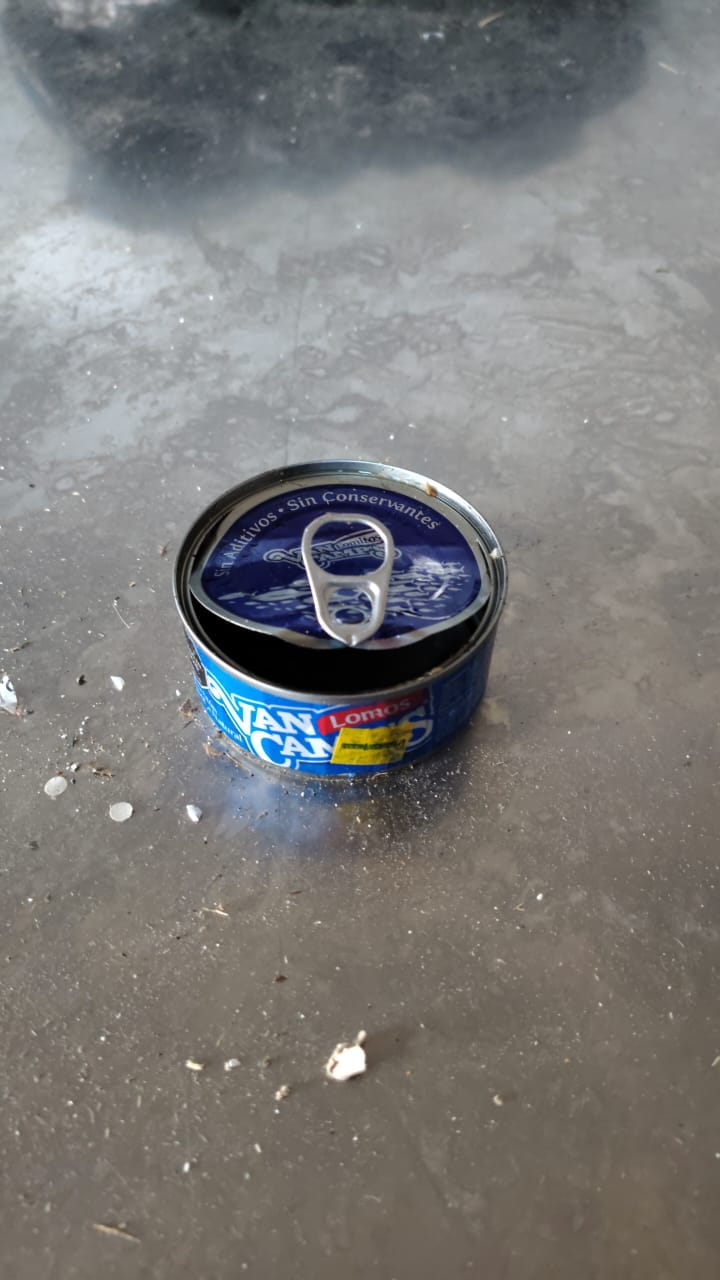Metal: (173, 466, 511, 787)
